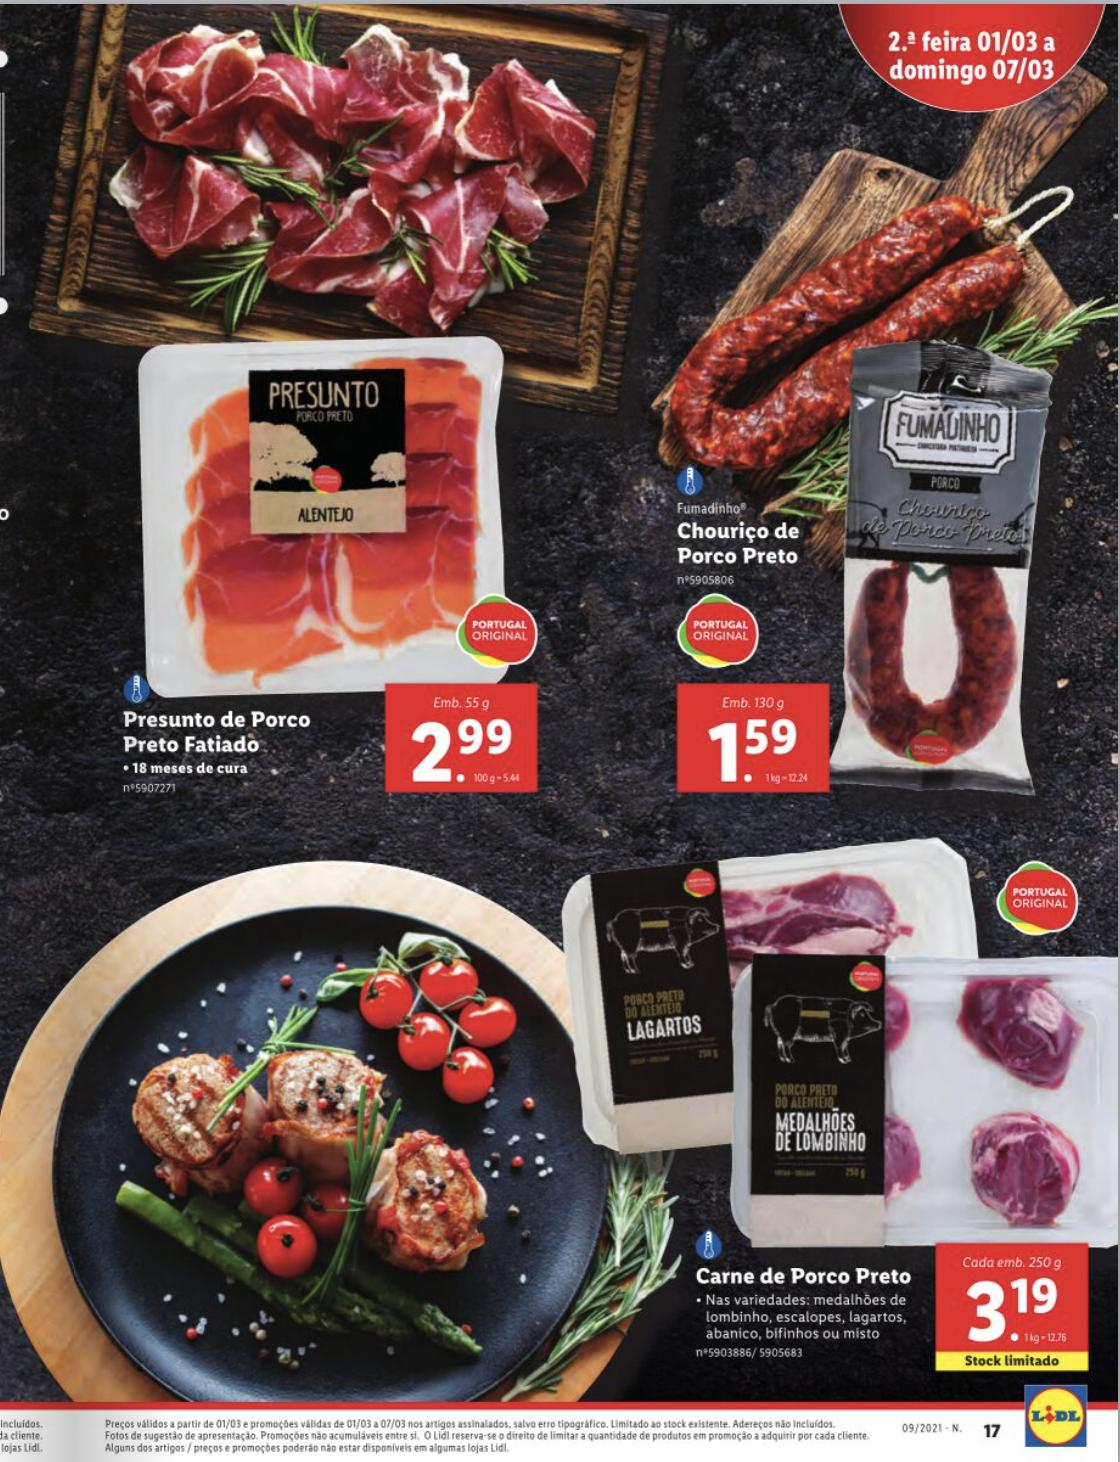name: (112, 705, 318, 766), (689, 1259, 920, 1295), (669, 518, 807, 574)
price: (956, 1270, 1074, 1354), (698, 712, 807, 794), (404, 710, 518, 786)
product: (556, 832, 1105, 1386), (76, 319, 569, 815), (640, 292, 1089, 815)
